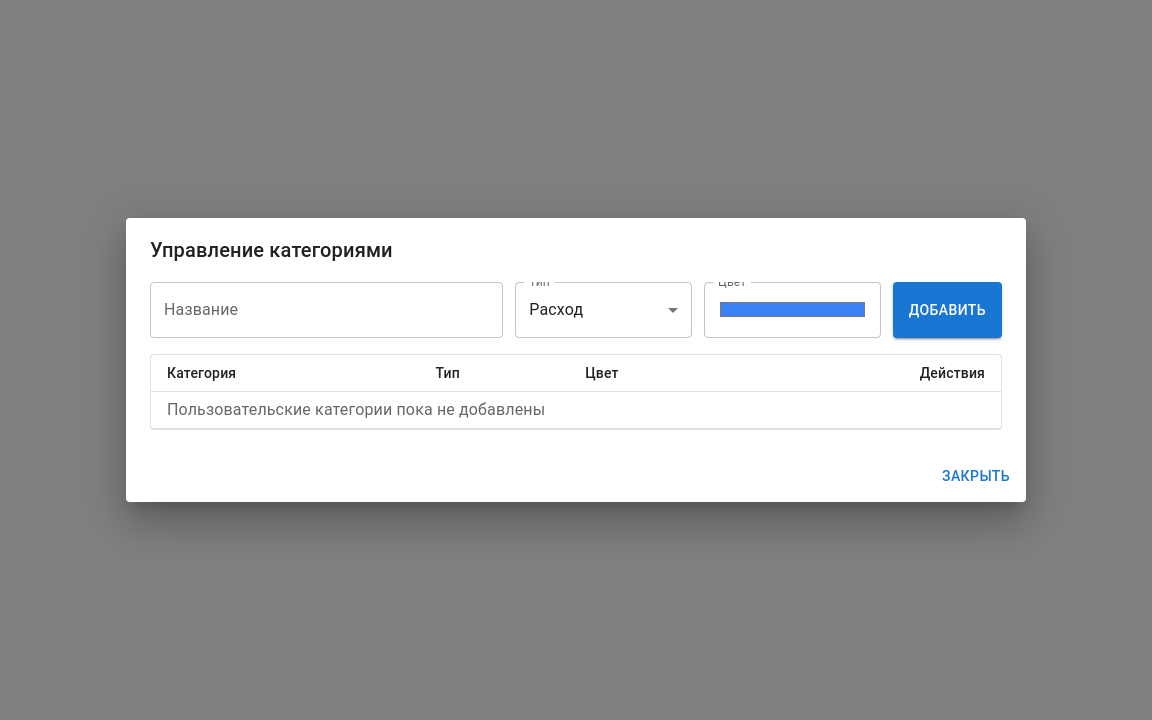
Scenario: CategoryManager › creates category on valid input
In the field labelled "Название": (327, 310) [150, 282, 503, 338], type "Аптеки"
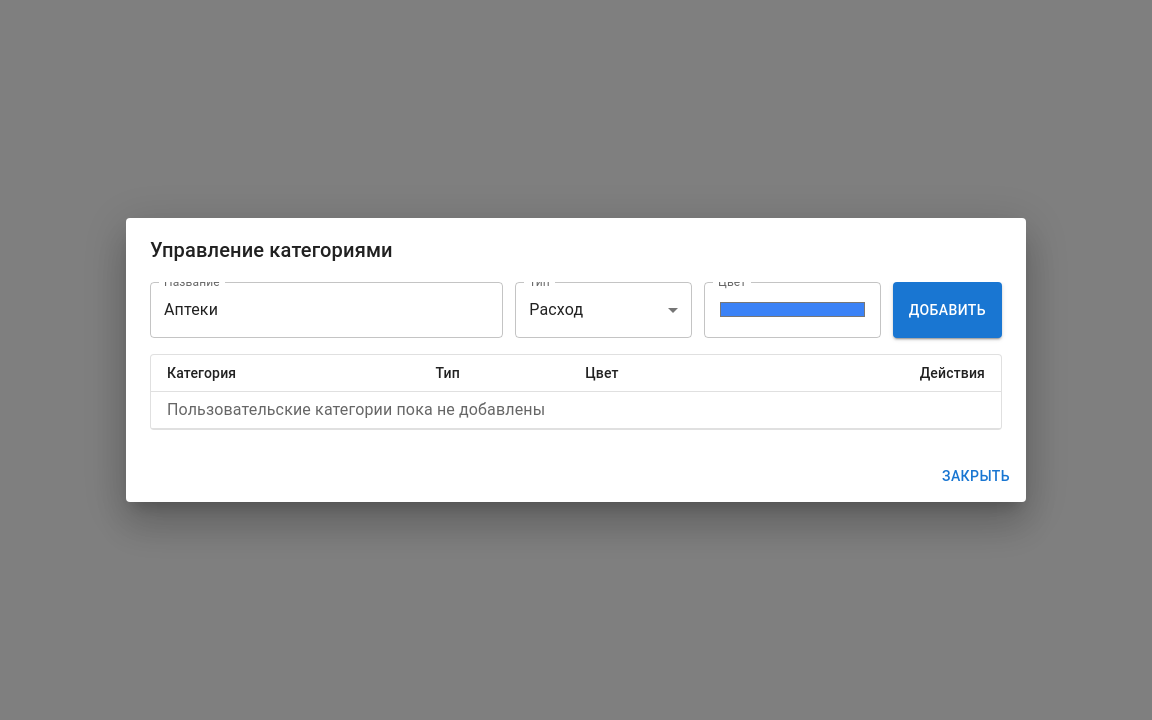
Click the button "Добавить": (947, 310) [893, 282, 1002, 338]
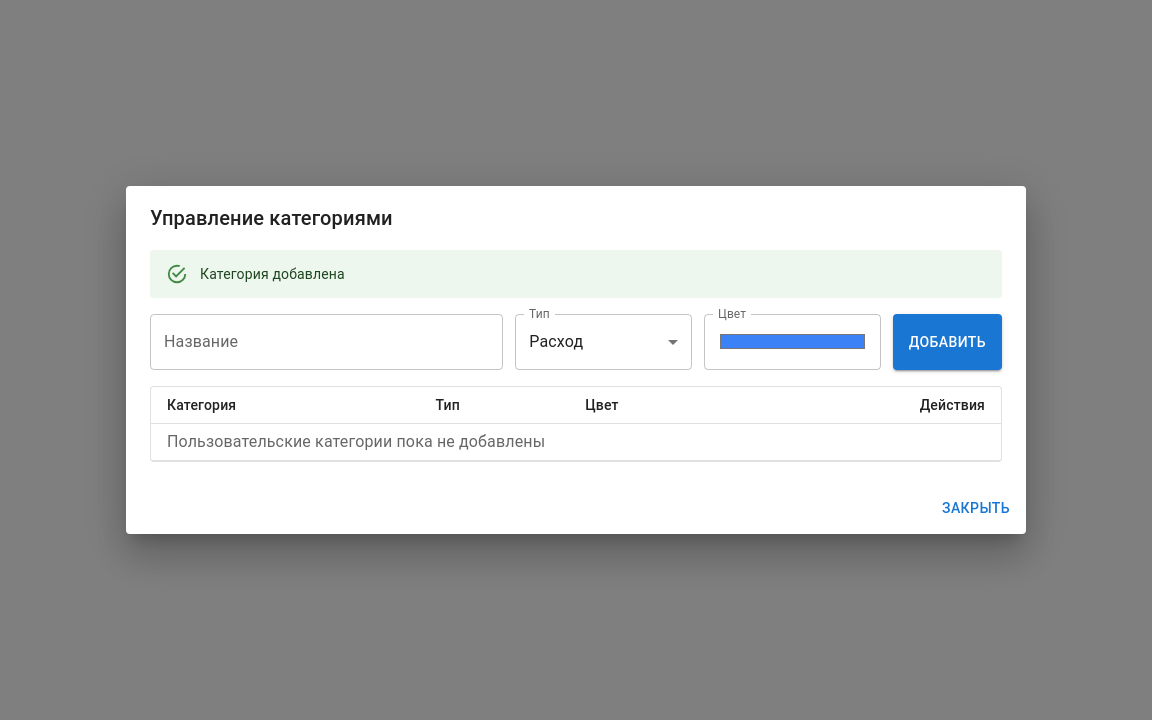
Result: the text "Категория добавлена" is shown at [200, 266, 345, 282]
